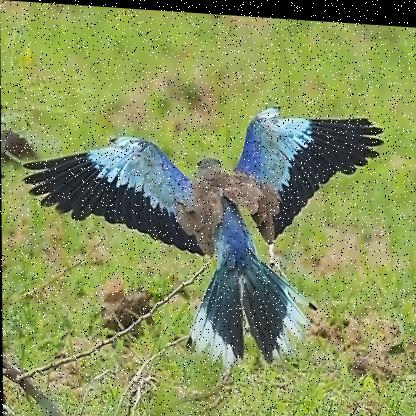Burung: (22, 88, 386, 370)
